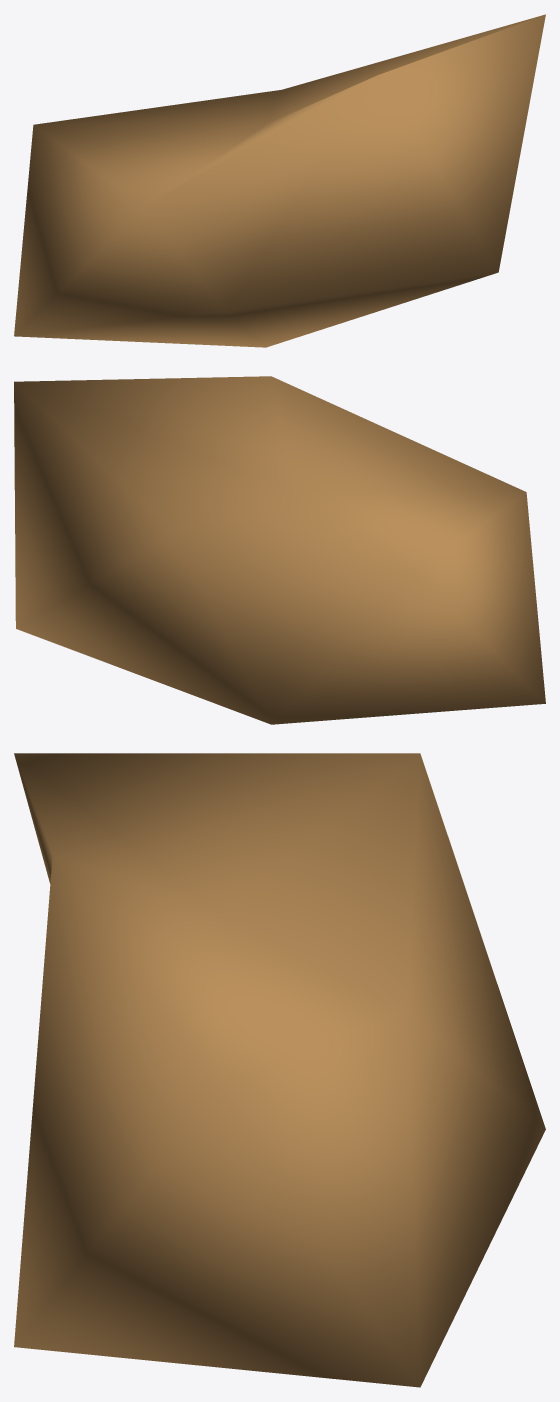
File: potatoe_product.glb
3 views of the same model, one above another, from view 1: azimuth 30°, elevation 25°; view 2: azimuth 150°, elevation 25°; view 3: azimuth 270°, elevation 25° (orthographic). The views are drawn at different scales.
Parts seen in each view (by area): view 1: Icosphere; view 2: Icosphere; view 3: Icosphere.
Part boxes in pixels (x1,y1,x2,y2): Icosphere: [14, 14, 545, 347]; Icosphere: [14, 376, 545, 724]; Icosphere: [14, 753, 545, 1387].
Size of the model in its own units: 2.61 by 1.36 by 1.24.
